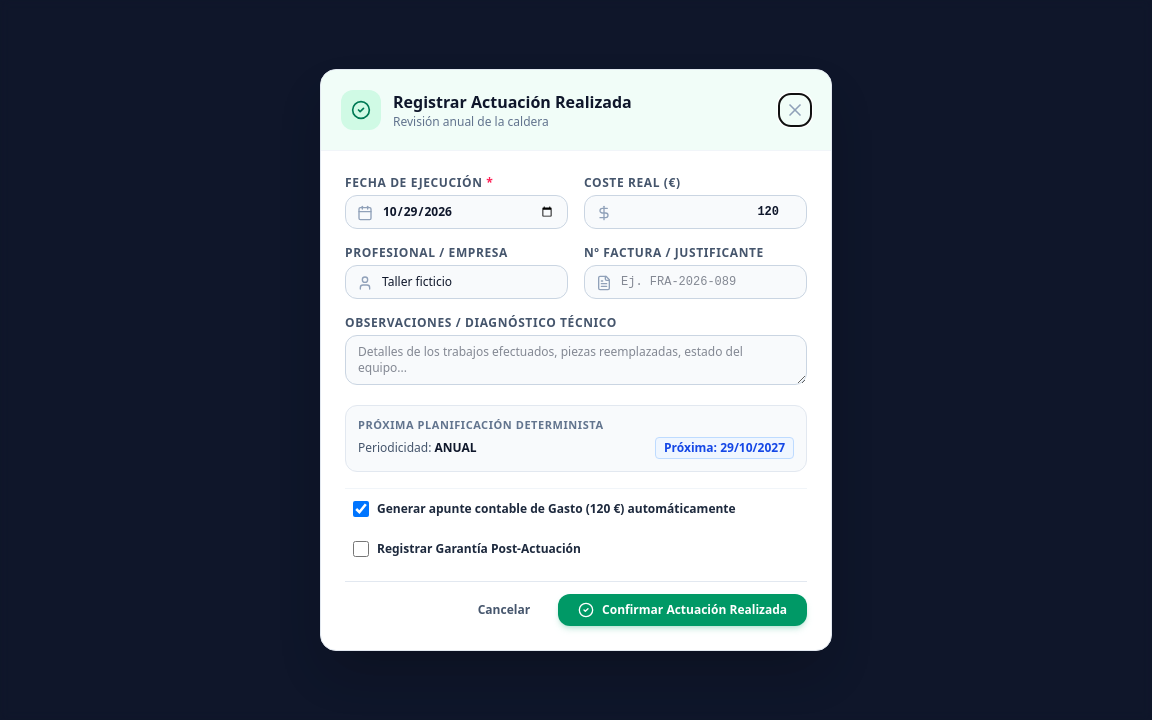
Test: BLOQUE 5 · RegistrarActuacionModal (persistencia verificable e idempotencia) › un fallo al guardar la garantía no avanza a la tarea ni cierra el modal como éxito
Step 1. Click the checkbox labelled "Registrar Garantía Post-Actuación" → [361, 549], box [353, 541, 369, 557]
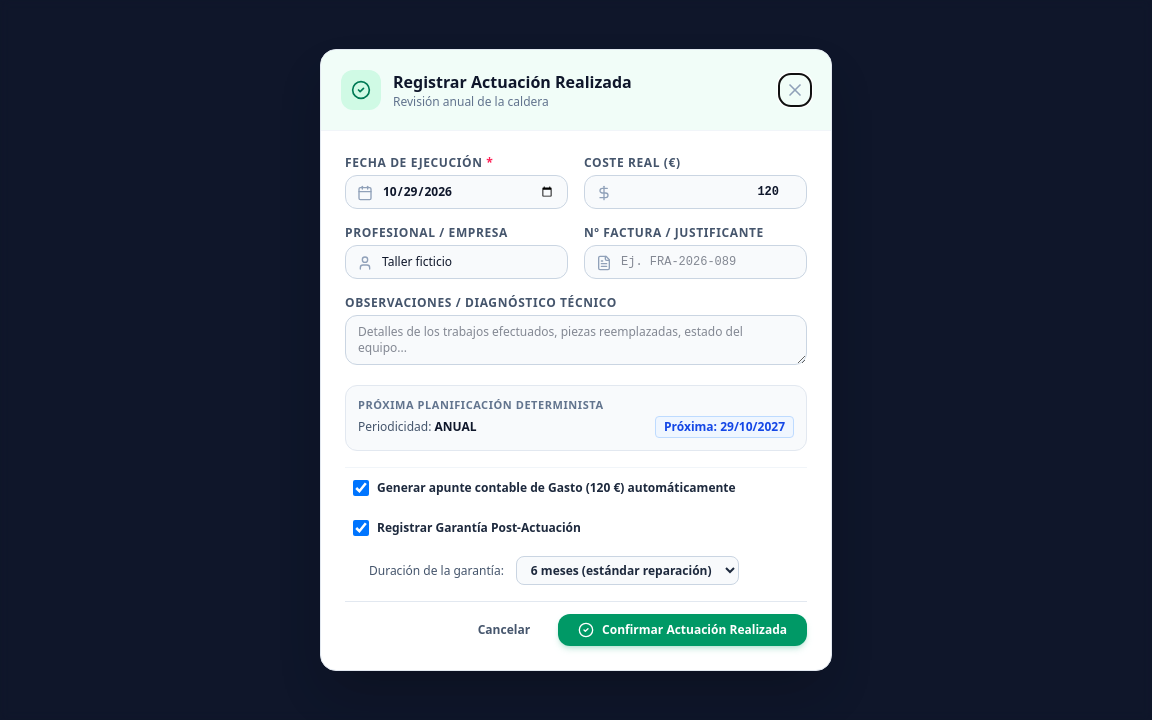
Step 2. Type "2026-03-02" into the date field → [456, 192], box [345, 175, 568, 209]
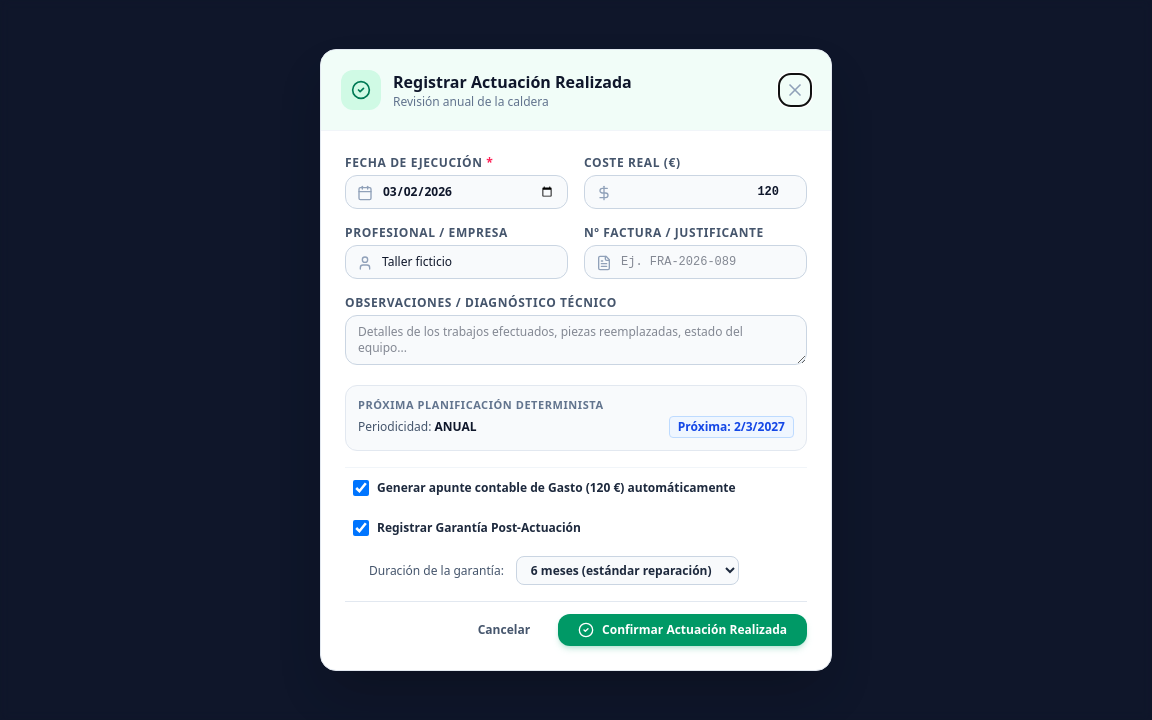
Step 3. Click the button "Confirmar Actuación Realizada" → [683, 630], box [558, 614, 807, 646]
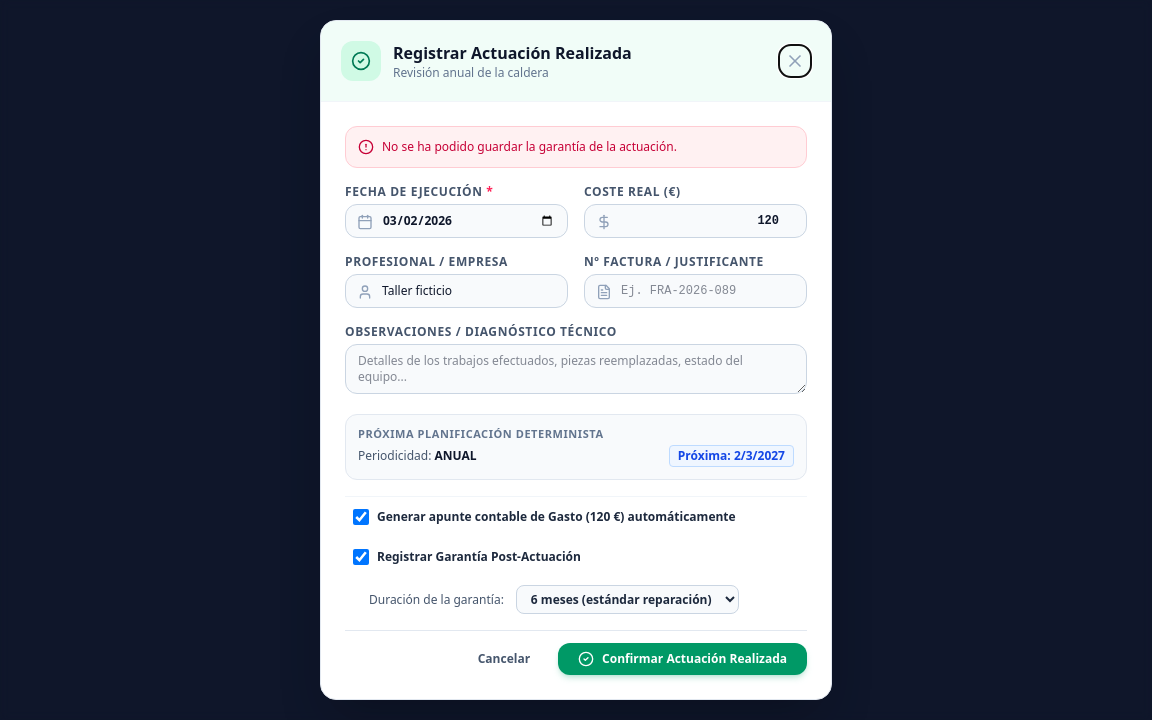
Check: the text "No se ha podido guardar la garantía de la actuación." is shown, box [382, 139, 677, 155]
